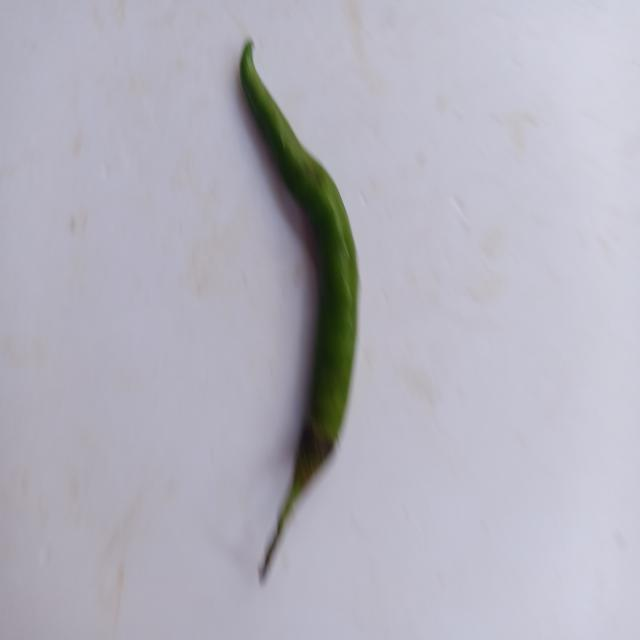Green Chilly: (240, 41, 358, 580)
